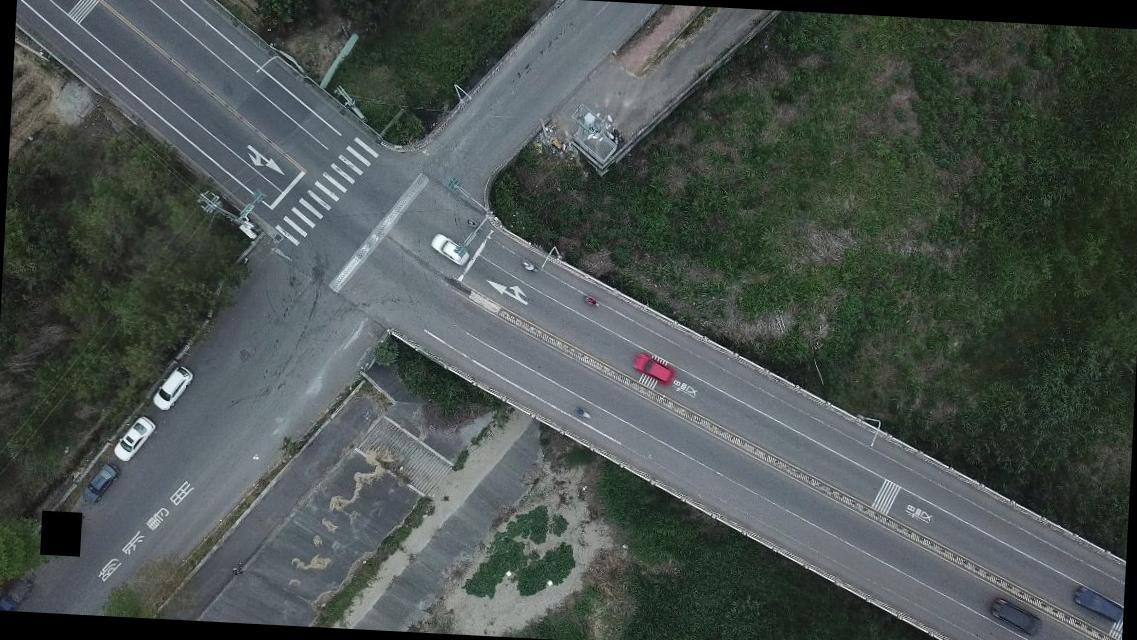vehicle: (109, 414, 154, 464), (1070, 586, 1123, 626), (148, 364, 194, 410), (989, 598, 1044, 636), (630, 352, 678, 386), (427, 232, 472, 268), (80, 462, 116, 506)
